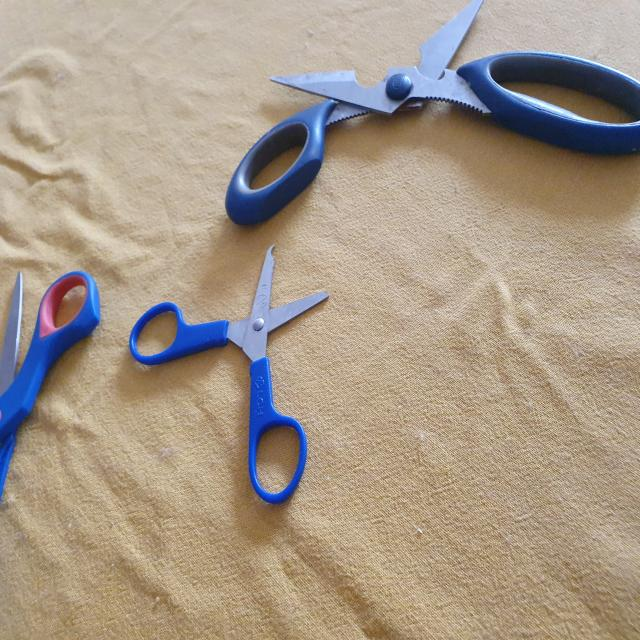scissors: (224, 0, 640, 227), (128, 246, 334, 508), (0, 263, 103, 507)
